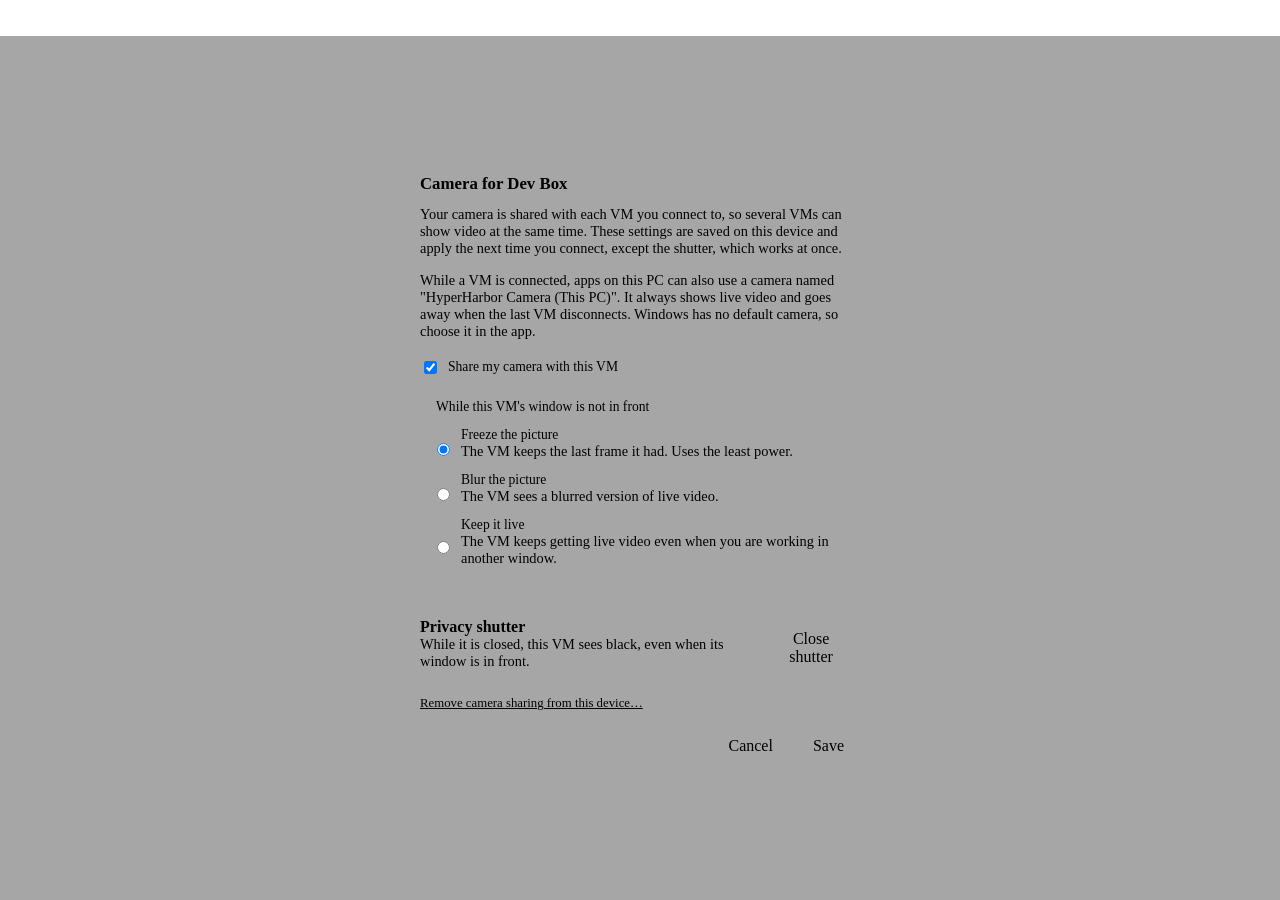
it: CameraDialog › removes camera sharing only after a confirmation
Click the button "Remove camera sharing from this device…" at (531,704), box 420,696 -> 643,711
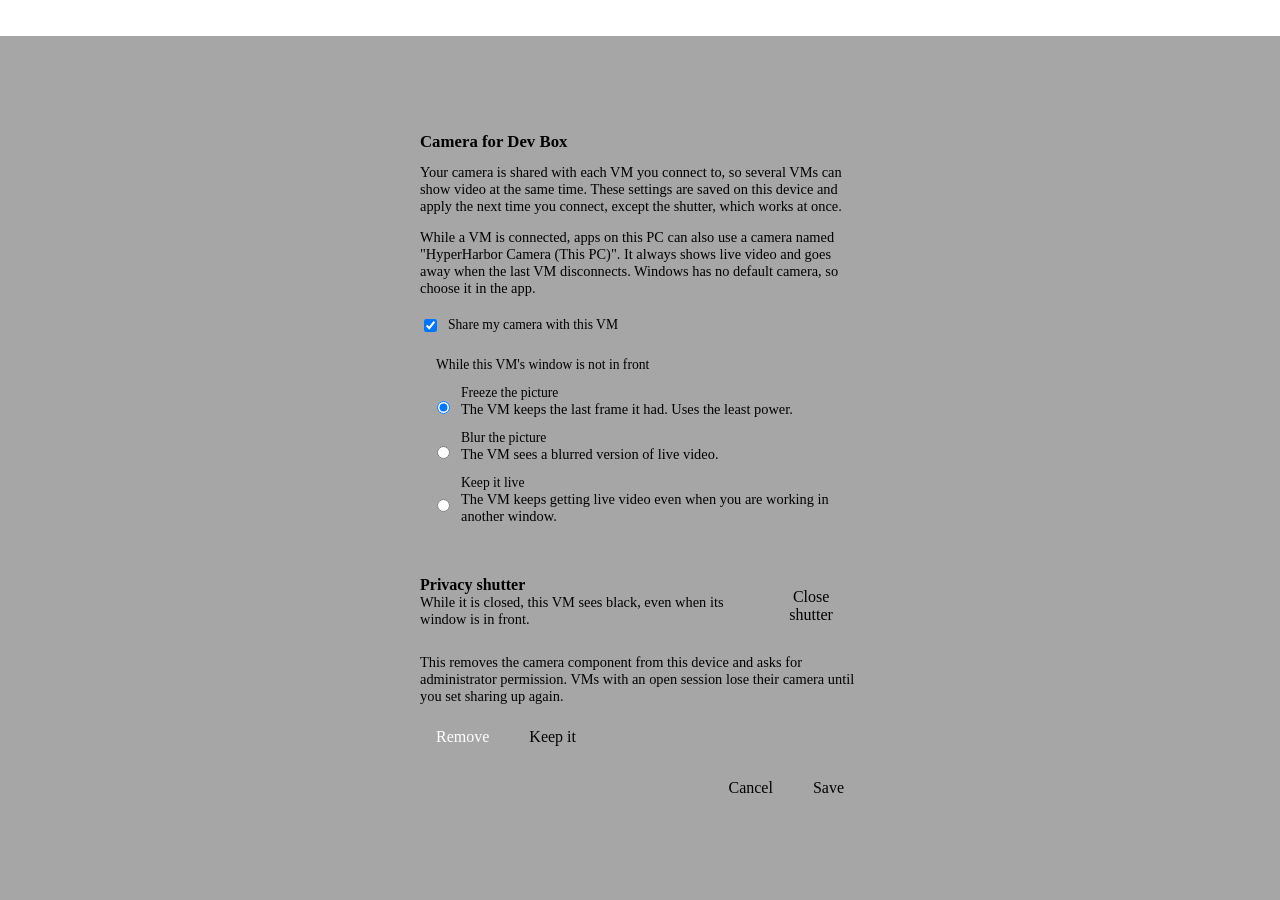
Result: the text "lose their camera until you set sharing up again" is shown at 420,654 -> 854,704
Click the button "Remove" at (463,737), box 420,721 -> 505,753
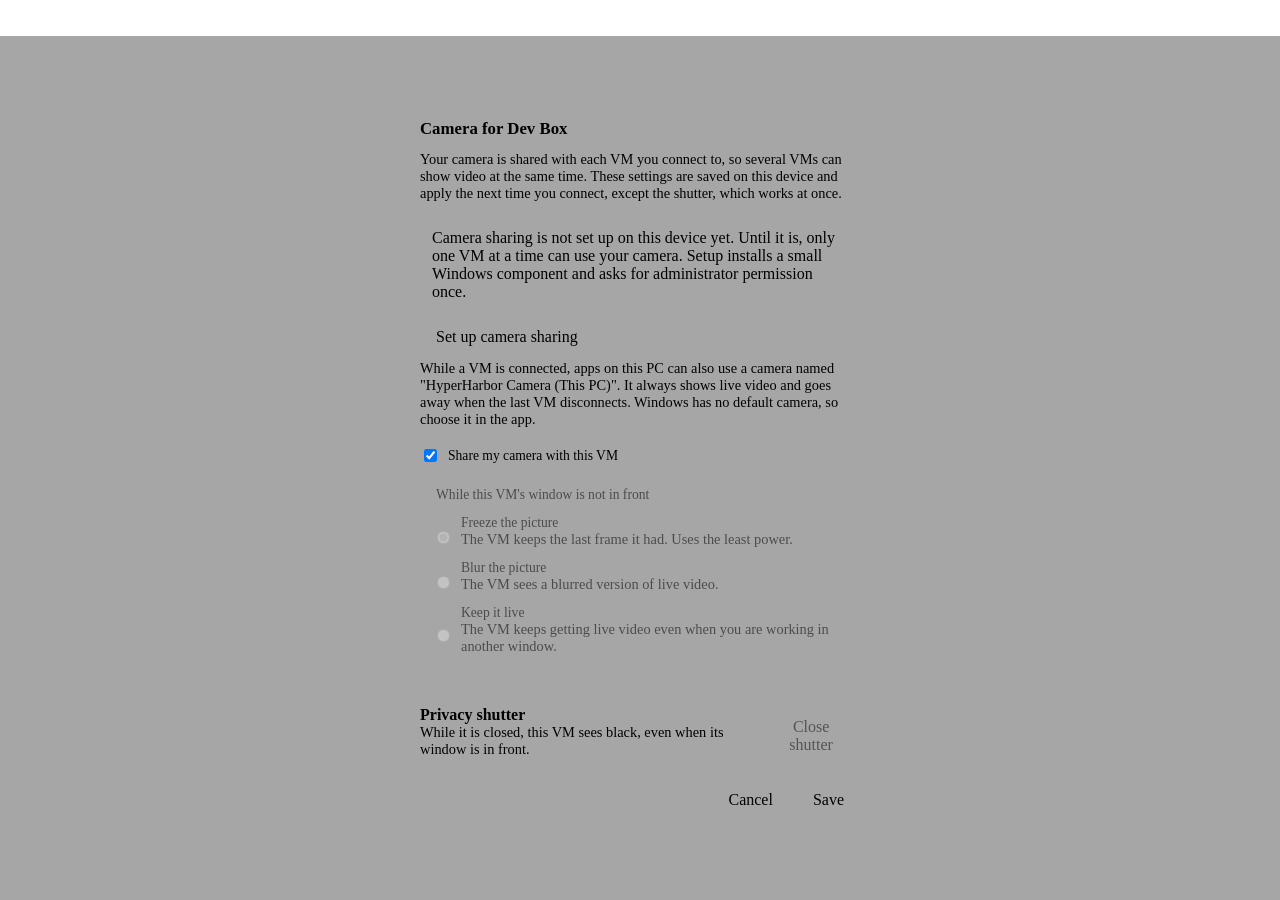
Result: the button "Set up camera sharing" is shown at 420,321 -> 594,353
